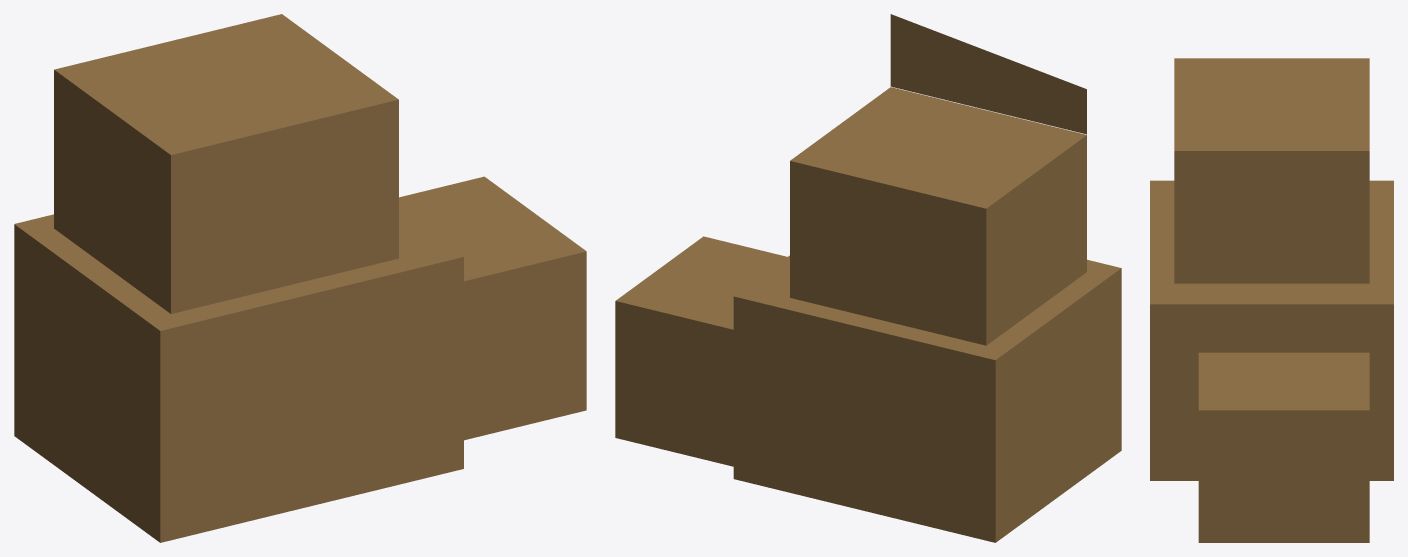
File: epicerie_cartons.glb
3 views of the same model, side by side, from view 1: azimuth 30°, elevation 25°; view 2: azimuth 150°, elevation 25°; view 3: azimuth 270°, elevation 25° (orthographic). The views are drawn at different scales.
Parts seen in each view (by area): view 1: epicerie_cartons; view 2: epicerie_cartons; view 3: epicerie_cartons.
Part boxes in pixels (x1,y1,x2,y2): epicerie_cartons: (14, 14, 586, 542); epicerie_cartons: (615, 14, 1121, 542); epicerie_cartons: (1150, 58, 1393, 542).
Bounding box in the file's own units: 0.9 × 0.86 × 0.5.
